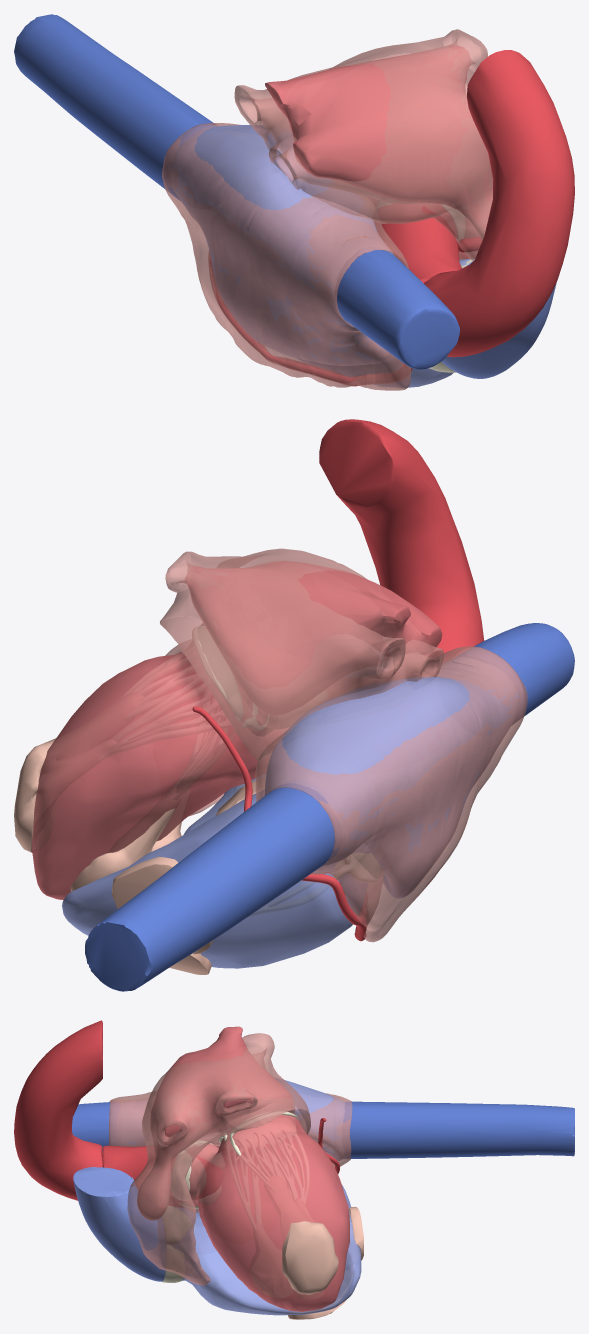
File: heart.glb
The picture shows the model from 3 angles, top to bottom: view 1: azimuth 30°, elevation 25°; view 2: azimuth 150°, elevation 25°; view 3: azimuth 270°, elevation 25°; orthographic projection. The views are drawn at different scales.
Visible parts, largest first — view 1: FJ2439|wall of right atrium, FJ2424|cavity of right atrium, FJ2425|cavity of left atrium, FJ2438|wall of left atrium, FJ3411|arch of aorta, FJ3441|inferior vena cava, FJ3645|superior vena cava, FJ3413|ascending aorta, FJ2966|pulmonary trunk, FJ2723|trunk of right coronary artery, FJ2423|cavity of right ventricle; view 2: FJ2438|wall of left atrium, FJ2424|cavity of right atrium, FJ2422|cavity of left ventricle, FJ2439|wall of right atrium, FJ2425|cavity of left atrium, FJ3441|inferior vena cava, FJ3411|arch of aorta, FJ2423|cavity of right ventricle, FJ2429|lateral papillary muscle of left ventricle, FJ2432|posterior leaflet of mitral valve, FJ3645|superior vena cava, FJ2418|anterolateral head of lateral papillary muscle of lef (+4 smaller); view 3: FJ2422|cavity of left ventricle, FJ2438|wall of left atrium, FJ3441|inferior vena cava, FJ2425|cavity of left atrium, FJ3411|arch of aorta, FJ2966|pulmonary trunk, FJ2423|cavity of right ventricle, FJ2439|wall of right atrium, FJ2429|lateral papillary muscle of left ventricle, FJ2424|cavity of right atrium, FJ2432|posterior leaflet of mitral valve, FJ3413|ascending aorta (+9 smaller).
Part boxes in pixels (x1=…): FJ2439|wall of right atrium: x1=162, y1=123, x2=411, y2=390; FJ2424|cavity of right atrium: x1=171, y1=125, x2=394, y2=364; FJ2425|cavity of left atrium: x1=265, y1=45, x2=492, y2=239; FJ2438|wall of left atrium: x1=234, y1=29, x2=492, y2=260; FJ3411|arch of aorta: x1=423, y1=50, x2=574, y2=357; FJ3441|inferior vena cava: x1=14, y1=14, x2=216, y2=200; FJ3645|superior vena cava: x1=334, y1=247, x2=459, y2=369; FJ3413|ascending aorta: x1=374, y1=203, x2=461, y2=282; FJ2966|pulmonary trunk: x1=441, y1=259, x2=556, y2=378; FJ2723|trunk of right coronary artery: x1=209, y1=252, x2=412, y2=386; FJ2423|cavity of right ventricle: x1=299, y1=259, x2=470, y2=387; FJ2438|wall of left atrium: x1=160, y1=548, x2=444, y2=816; FJ2424|cavity of right atrium: x1=265, y1=657, x2=519, y2=897; FJ2422|cavity of left ventricle: x1=32, y1=641, x2=287, y2=899; FJ2439|wall of right atrium: x1=255, y1=646, x2=527, y2=942; FJ2425|cavity of left atrium: x1=185, y1=561, x2=442, y2=714; FJ3441|inferior vena cava: x1=85, y1=783, x2=341, y2=991; FJ3411|arch of aorta: x1=319, y1=419, x2=484, y2=661; FJ2423|cavity of right ventricle: x1=62, y1=775, x2=370, y2=968; FJ2429|lateral papillary muscle of left ventricle: x1=14, y1=692, x2=142, y2=852; FJ2432|posterior leaflet of mitral valve: x1=98, y1=627, x2=242, y2=760; FJ3645|superior vena cava: x1=455, y1=623, x2=574, y2=724; FJ2418|anterolateral head of lateral papillary muscle of lef: x1=70, y1=786, x2=189, y2=891; FJ2422|cavity of left ventricle: x1=187, y1=1115, x2=349, y2=1311; FJ2438|wall of left atrium: x1=127, y1=1033, x2=310, y2=1285; FJ3441|inferior vena cava: x1=342, y1=1101, x2=574, y2=1158; FJ2425|cavity of left atrium: x1=138, y1=1026, x2=292, y2=1219; FJ3411|arch of aorta: x1=14, y1=1020, x2=102, y2=1200; FJ2966|pulmonary trunk: x1=73, y1=1167, x2=166, y2=1281; FJ2423|cavity of right ventricle: x1=172, y1=1185, x2=361, y2=1315; FJ2439|wall of right atrium: x1=109, y1=1091, x2=352, y2=1212; FJ2429|lateral papillary muscle of left ventricle: x1=264, y1=1176, x2=338, y2=1294; FJ2424|cavity of right atrium: x1=116, y1=1078, x2=344, y2=1211; FJ2432|posterior leaflet of mitral valve: x1=229, y1=1111, x2=308, y2=1203; FJ3413|ascending aorta: x1=103, y1=1145, x2=222, y2=1205.
Bounding box in the file's own units: 0.4491 × 0.5006 × 0.9.
